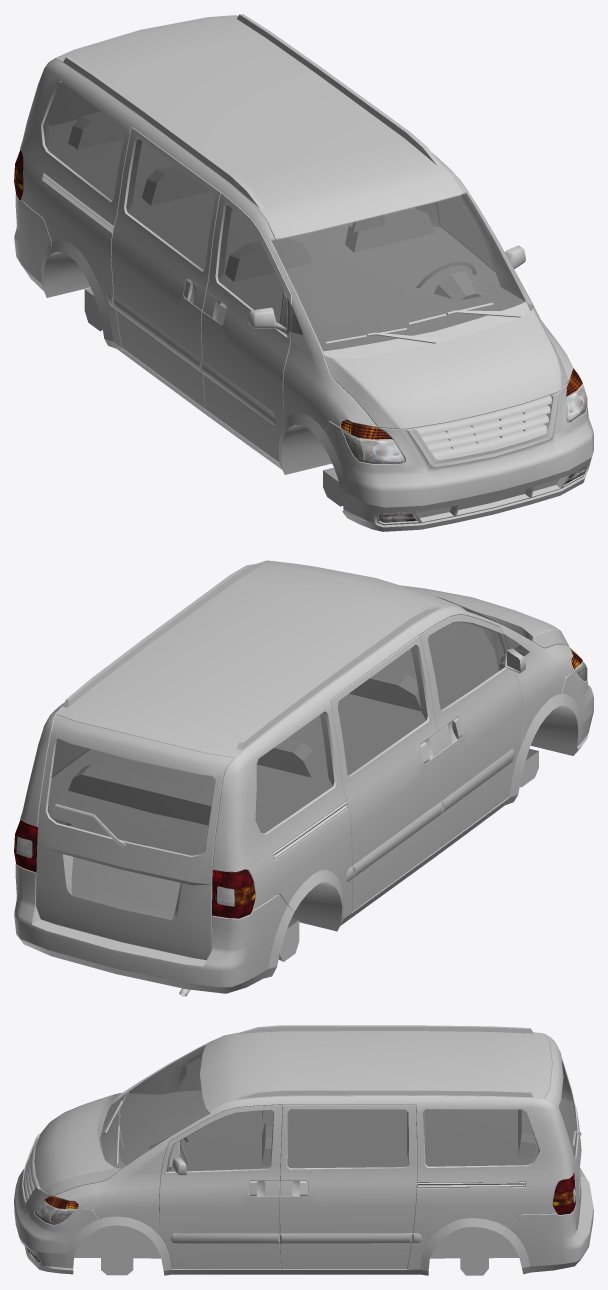
The model's file is minvan.fbx.
3 renders of one model, top to bottom at view 1: azimuth 30°, elevation 25°; view 2: azimuth 150°, elevation 25°; view 3: azimuth 270°, elevation 25°, orthographic. The views are drawn at different scales.
Parts seen in each view (by area): view 1: minivan body; view 2: minivan body; view 3: minivan body.
Boxes of the visible parts, x1,y1,x2,y2 form: minivan body: (14,14,593,531); minivan body: (14,560,593,996); minivan body: (14,1025,593,1275).
Size of the model in its own units: 210 by 180 by 519.
